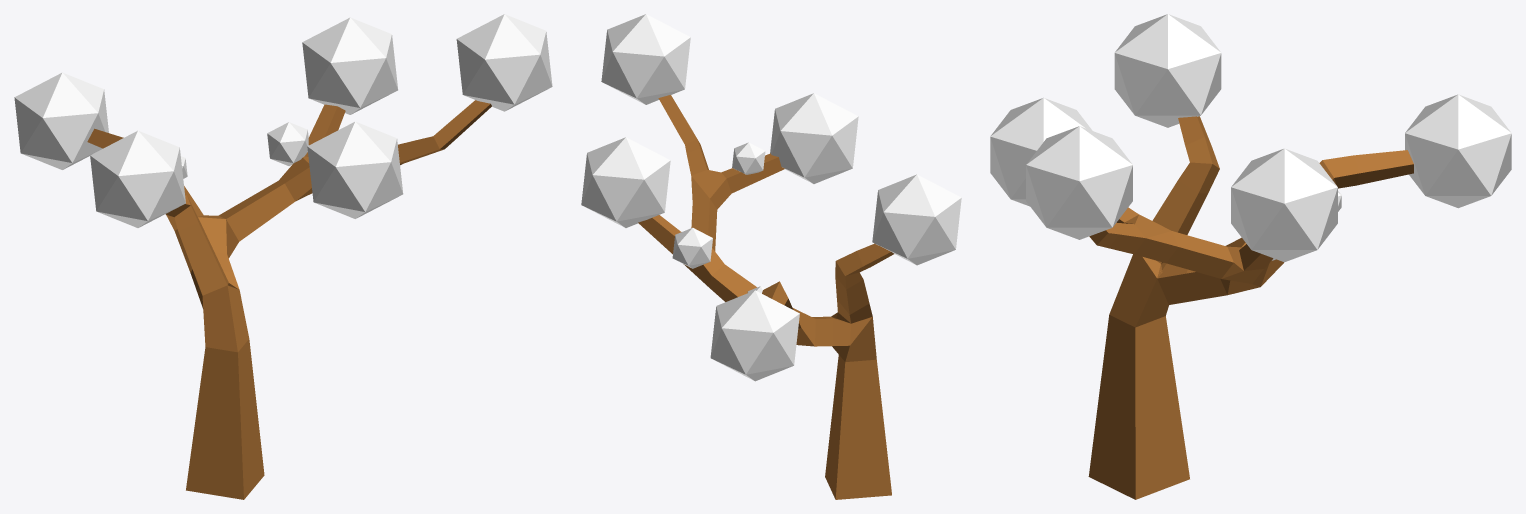
Rendered from Tree1.glb.
3 renders of one model, left to right at view 1: azimuth 30°, elevation 25°; view 2: azimuth 150°, elevation 25°; view 3: azimuth 270°, elevation 25°, orthographic. The views are drawn at different scales.
Parts seen in each view (by area): view 1: Cube, Leaf1, Icosphere.003, Icosphere.002, Icosphere.004, Icosphere.006, Icosphere.005; view 2: Cube, Icosphere.006, Icosphere.004, Leaf1, Icosphere.002, Icosphere.003, Icosphere.005, Icosphere.008; view 3: Cube, Icosphere.002, Icosphere.004, Leaf1, Icosphere.006, Icosphere.003.
Part boxes in pixels (x1,y1,x2,y2): Cube: (87,100,491,499); Leaf1: (90,130,185,227); Icosphere.003: (307,121,403,218); Icosphere.002: (456,14,552,111); Icosphere.004: (302,17,398,114); Icosphere.006: (14,72,108,169); Icosphere.005: (267,122,308,165); Cube: (638,95,893,499); Icosphere.006: (710,290,799,381); Icosphere.004: (581,137,670,227); Leaf1: (872,174,961,265); Icosphere.002: (601,14,690,104); Icosphere.003: (770,93,858,183); Icosphere.005: (672,227,712,268); Icosphere.008: (732,142,765,174); Cube: (1088,116,1413,499); Icosphere.002: (1026,126,1132,239); Icosphere.004: (1231,148,1337,262); Leaf1: (1114,14,1221,127); Icosphere.006: (1405,94,1511,208); Icosphere.003: (990,97,1092,206).
Bounding box in the file's own units: 3.85 × 3.81 × 3.62.
